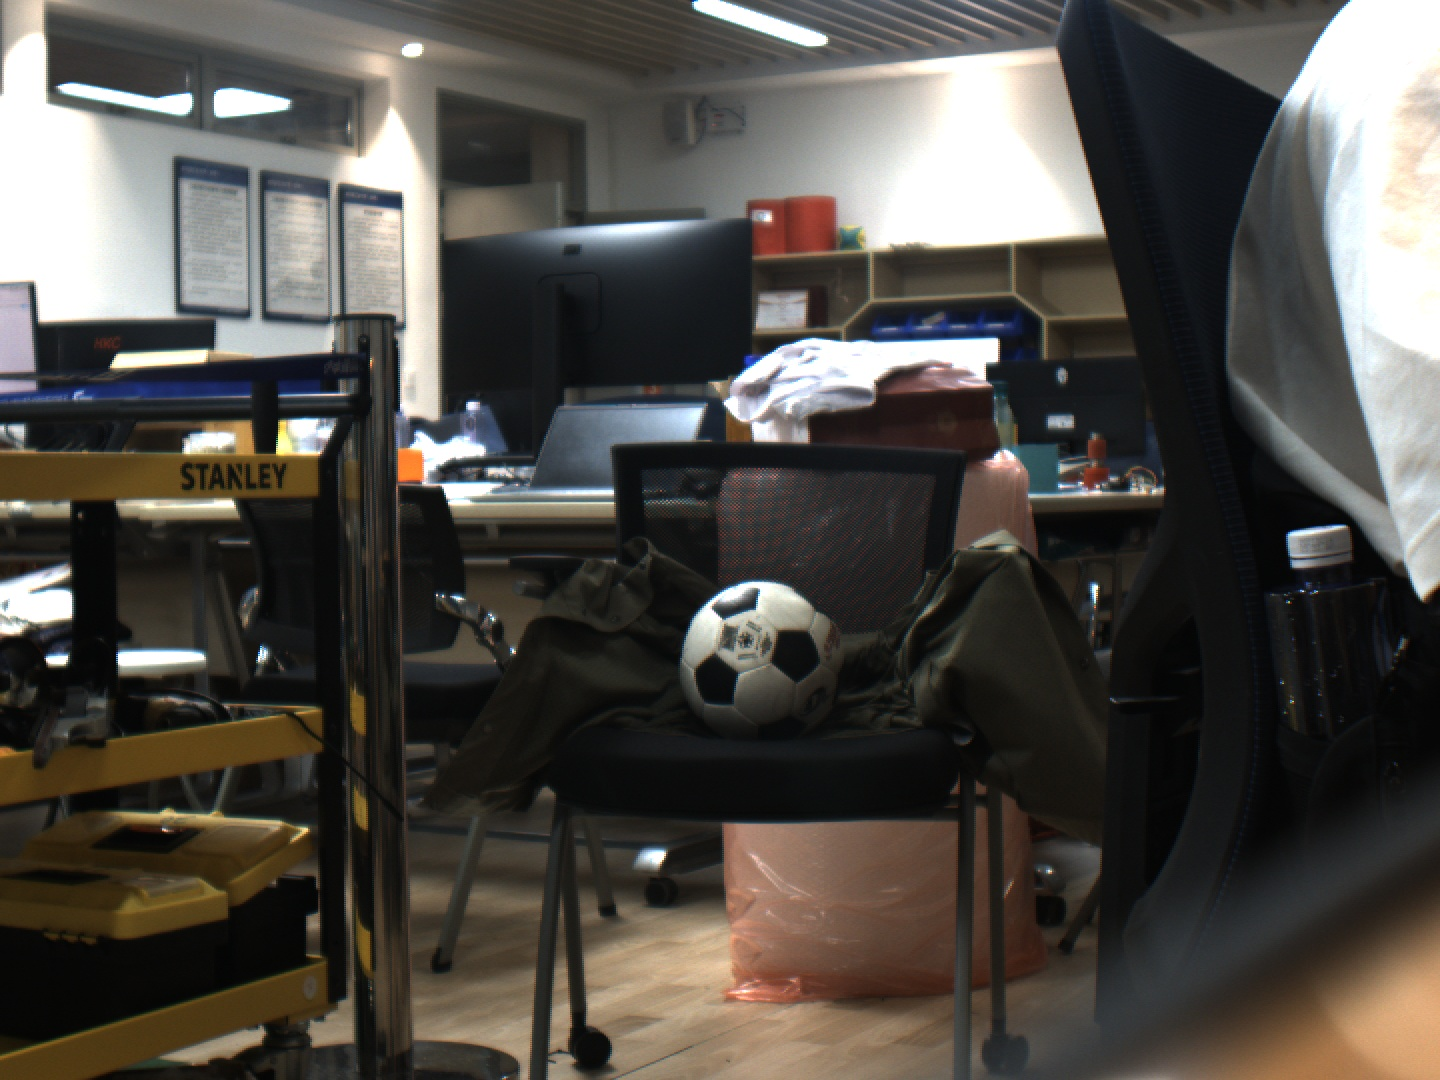ball: (658, 559, 873, 735)
